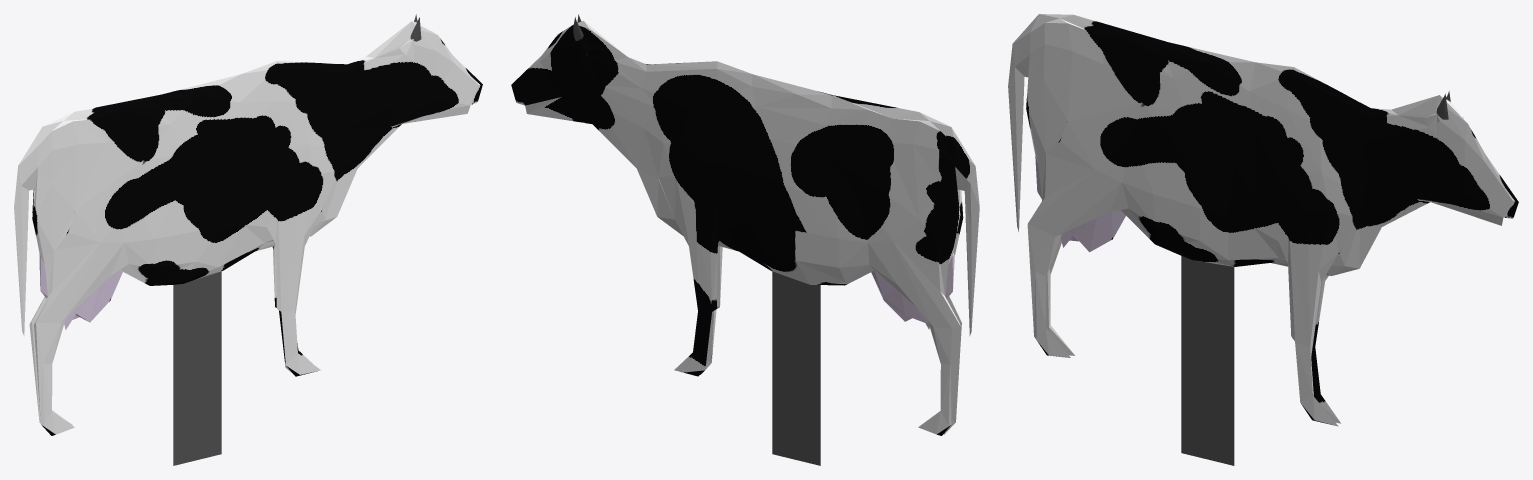
File: Cow 2.fbx
The picture shows the model from 3 angles, left to right: view 1: azimuth 30°, elevation 25°; view 2: azimuth 150°, elevation 25°; view 3: azimuth 330°, elevation 25°; orthographic projection. The views are drawn at different scales.
Parts seen in each view (by area): view 1: cow; view 2: cow; view 3: cow.
Boxes of the visible parts, x1=… form: cow: x1=14, y1=14, x2=482, y2=465; cow: x1=511, y1=14, x2=979, y2=465; cow: x1=1008, y1=14, x2=1518, y2=465.
Size of the model in its own units: 300 by 239 by 7.75.
